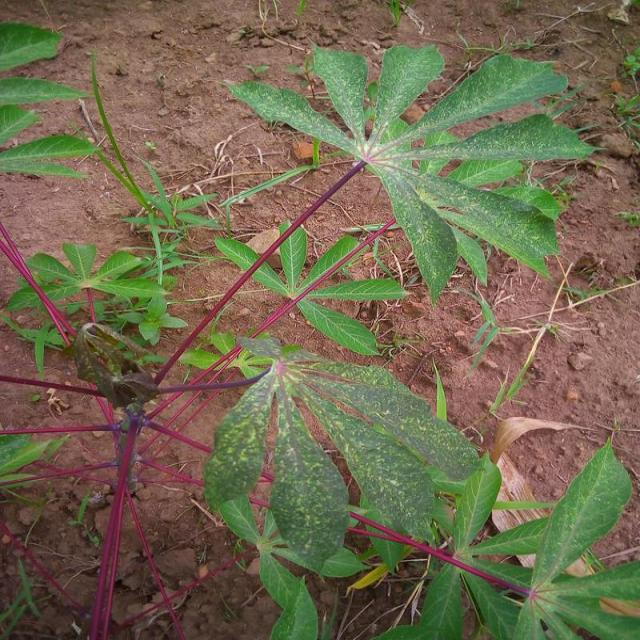cassava leaf: (220, 37, 602, 305), (202, 333, 483, 576)
